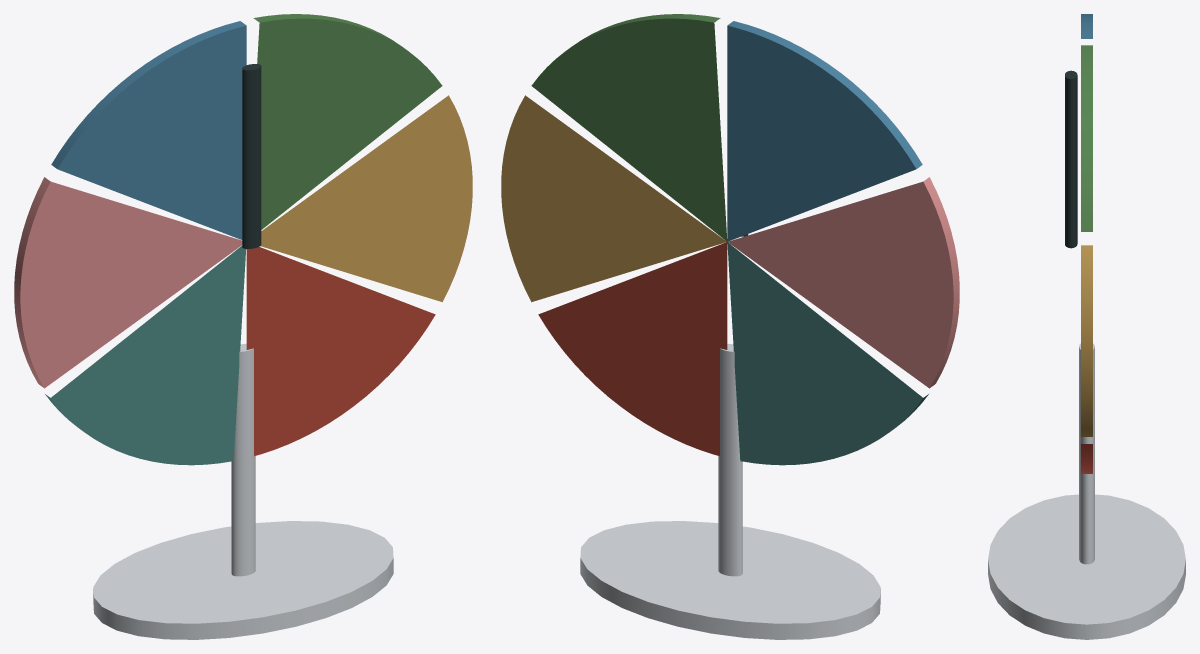
The model's file is wp-roue-des-humeurs.glb.
3 renders of one model, left to right at view 1: azimuth 30°, elevation 25°; view 2: azimuth 150°, elevation 25°; view 3: azimuth 270°, elevation 25°, orthographic. The views are drawn at different scales.
Parts seen in each view (by area): view 1: wp-roue-des-humeurs; view 2: wp-roue-des-humeurs; view 3: wp-roue-des-humeurs.
Boxes of the visible parts, x1,y1,x2,y2 form: wp-roue-des-humeurs: (14,14,472,639); wp-roue-des-humeurs: (501,14,959,639); wp-roue-des-humeurs: (988,14,1185,639).
Size of the model in its own units: 0.5 by 0.6 by 0.2.
